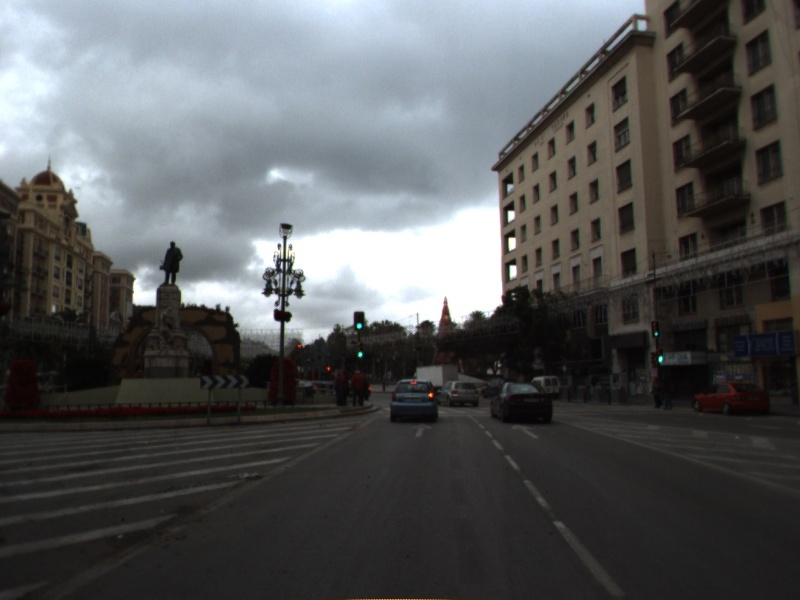STRAIGHT: (509, 422, 542, 441), (409, 422, 435, 440)
